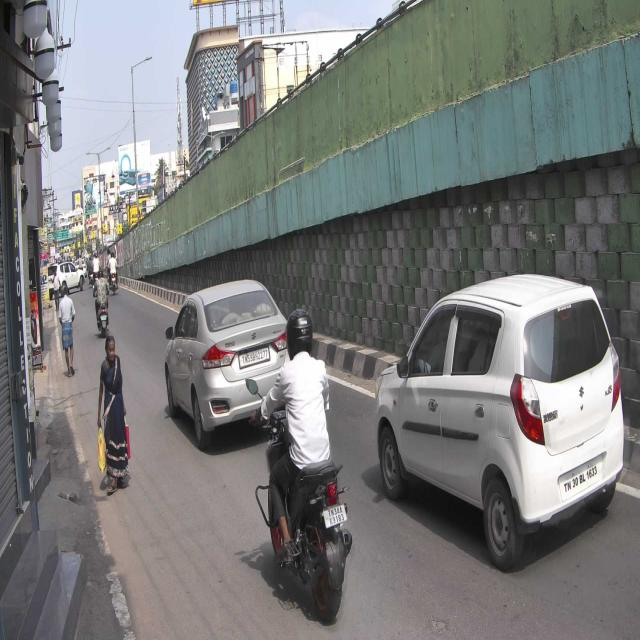single_rider: (247, 304, 352, 620)
